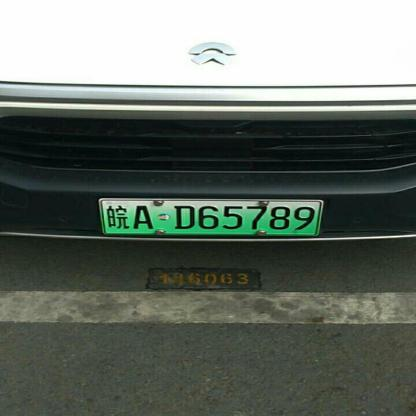lp: (101, 198, 322, 235)
